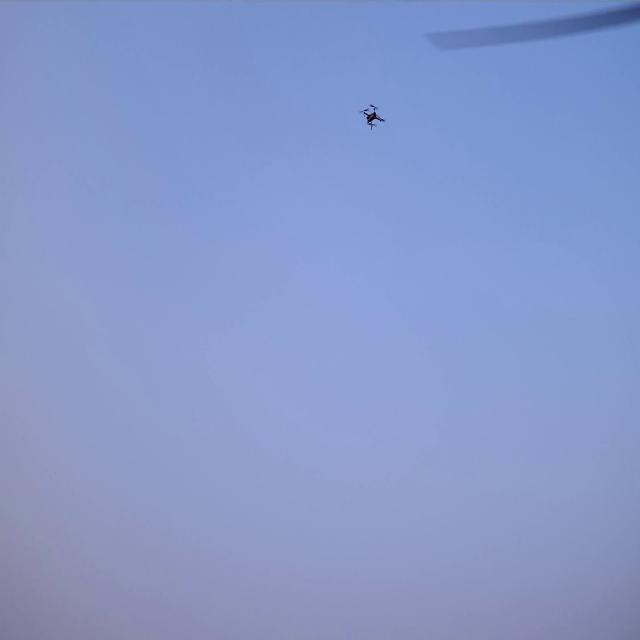UAV: (363, 105, 383, 129)
